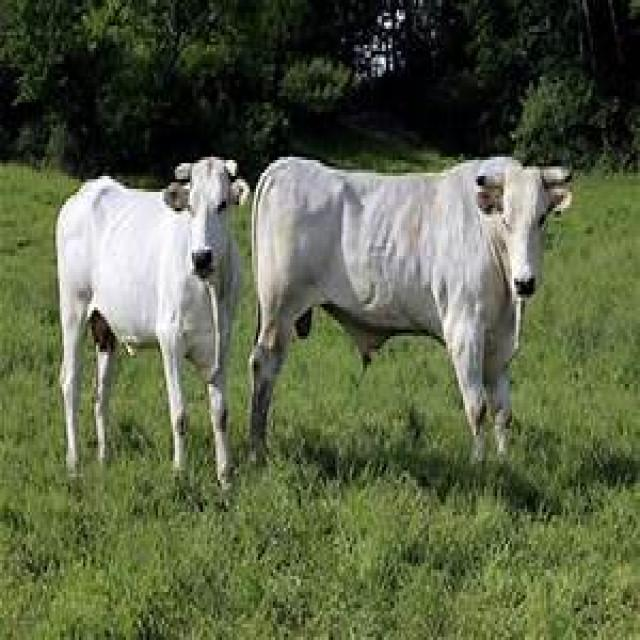animal: (245, 150, 572, 473), (53, 153, 250, 502)
